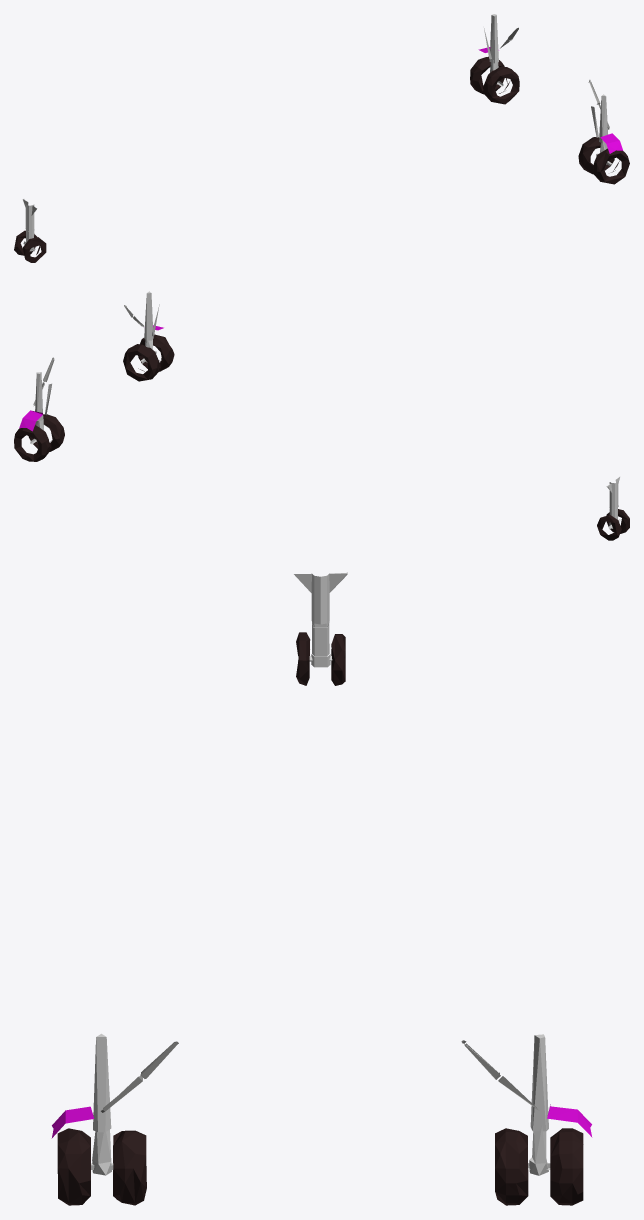
Rendered from b737.gear.glb.
3 renders of one model, top to bottom at view 1: azimuth 30°, elevation 25°; view 2: azimuth 150°, elevation 25°; view 3: azimuth 270°, elevation 25°, orthographic. The views are drawn at different scales.
Visible parts, largest first — view 1: gear; view 2: gear; view 3: gear.
Part boxes in pixels (bbox=[...]): gear: bbox=[14, 14, 629, 262]; gear: bbox=[14, 291, 629, 540]; gear: bbox=[51, 572, 592, 1205].
Bounding box in the file's own units: 16.65 × 2.4 × 7.12.
